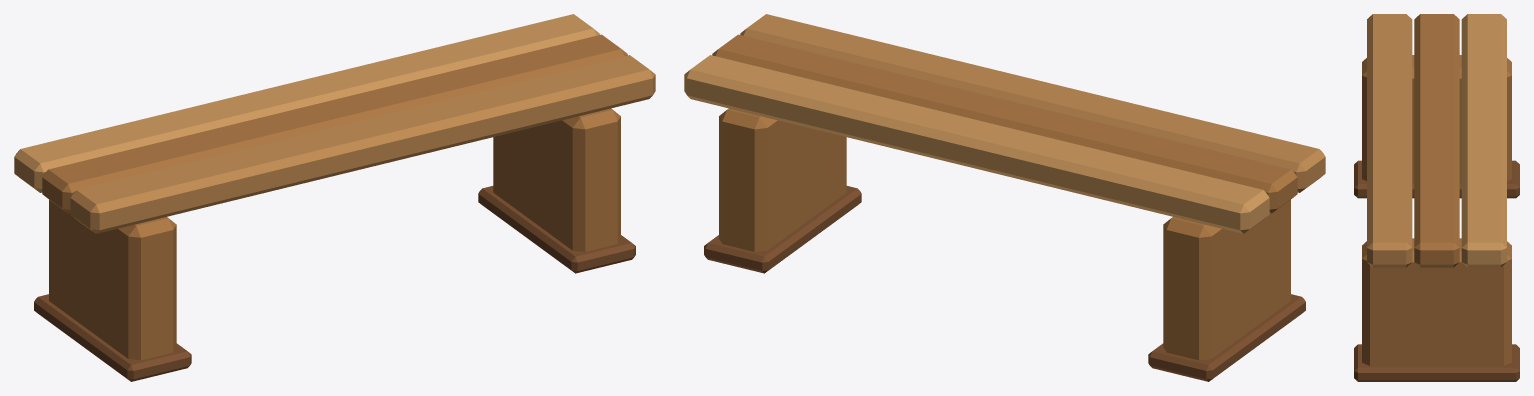
The model's file is arcade_bench.glb.
3 views of the same model, side by side, from view 1: azimuth 30°, elevation 25°; view 2: azimuth 150°, elevation 25°; view 3: azimuth 270°, elevation 25° (orthographic). The views are drawn at different scales.
Visible parts, largest first — view 1: arcade_bench; view 2: arcade_bench; view 3: arcade_bench.
Boxes of the visible parts, box(x1,y1,x2,y2) form: arcade_bench: box(14, 14, 655, 381); arcade_bench: box(684, 14, 1325, 381); arcade_bench: box(1354, 14, 1519, 381).
Size of the model in its own units: 1.4 by 0.42 by 0.42.
